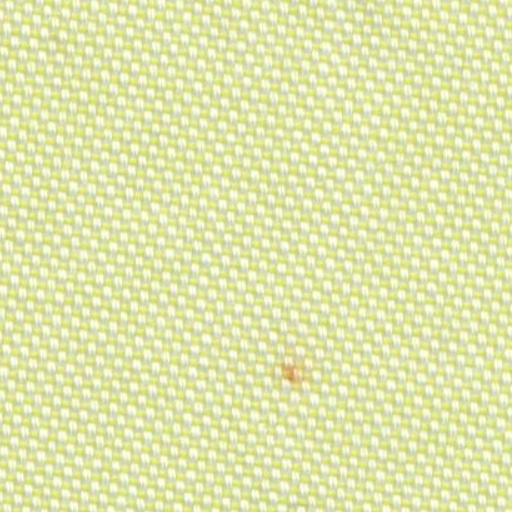WuZi: (265, 335, 332, 406)
